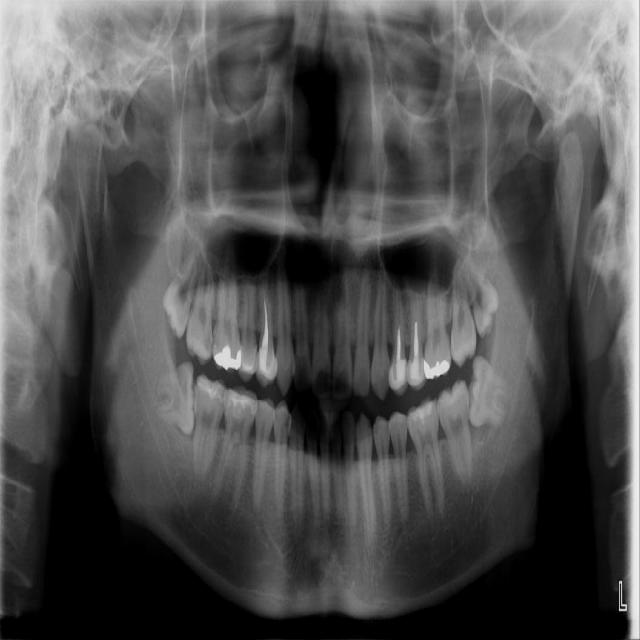Filling: (224, 389, 258, 417), (196, 376, 225, 404), (213, 343, 242, 370), (406, 354, 427, 390), (422, 357, 451, 378), (411, 401, 435, 421)
Root Canal Treatment: (257, 302, 268, 356), (600, 569, 614, 596), (396, 319, 401, 358), (414, 321, 420, 353)
impacted tooth: (468, 355, 523, 428), (148, 362, 198, 433), (461, 252, 499, 339), (164, 247, 196, 337)
